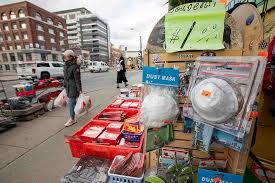mask: (60, 44, 76, 67)
